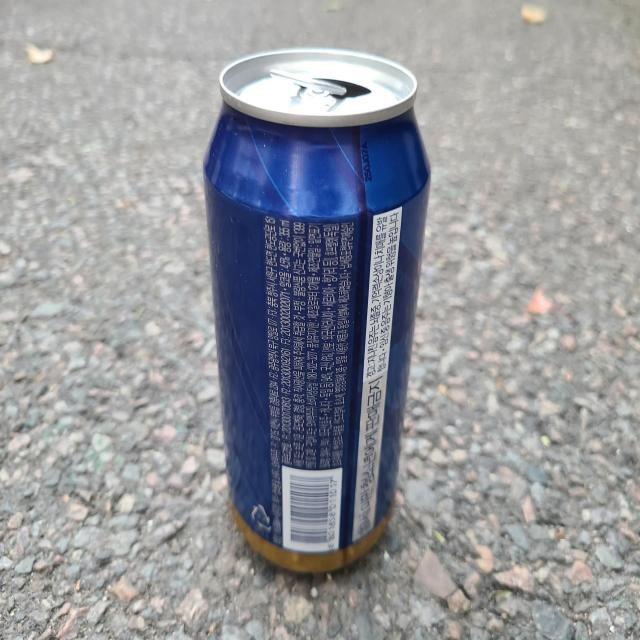can: (204, 47, 430, 572)
